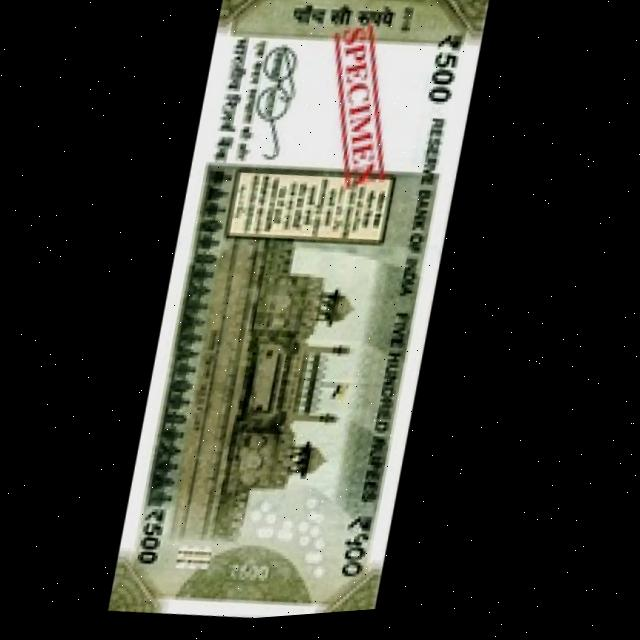banknote: (117, 0, 495, 631)
